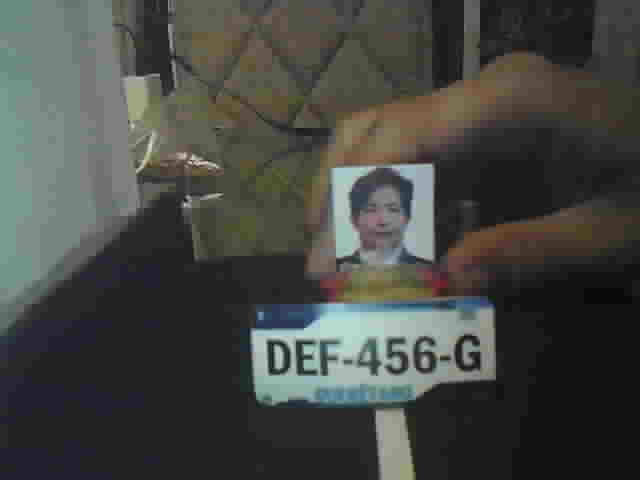PLACA: (248, 294, 502, 409)
ROSTRO: (332, 165, 434, 264)
